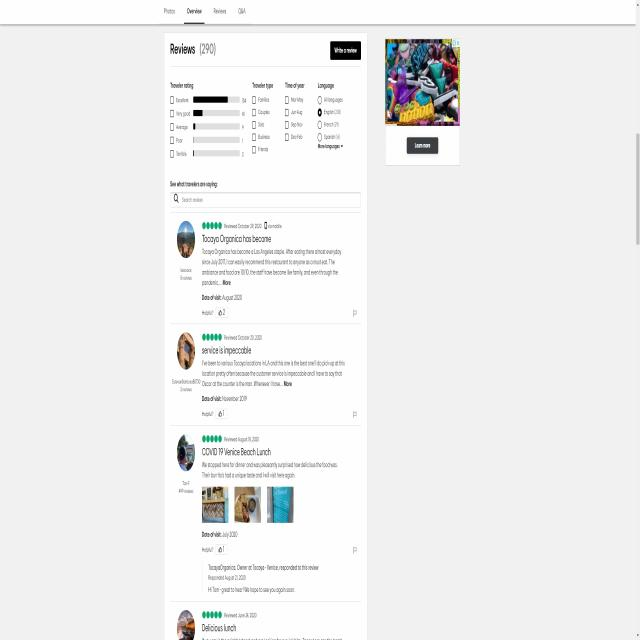menu-panel: (167, 72, 351, 170)
search: (170, 187, 362, 209)
tab-bar: (160, 2, 248, 22)
